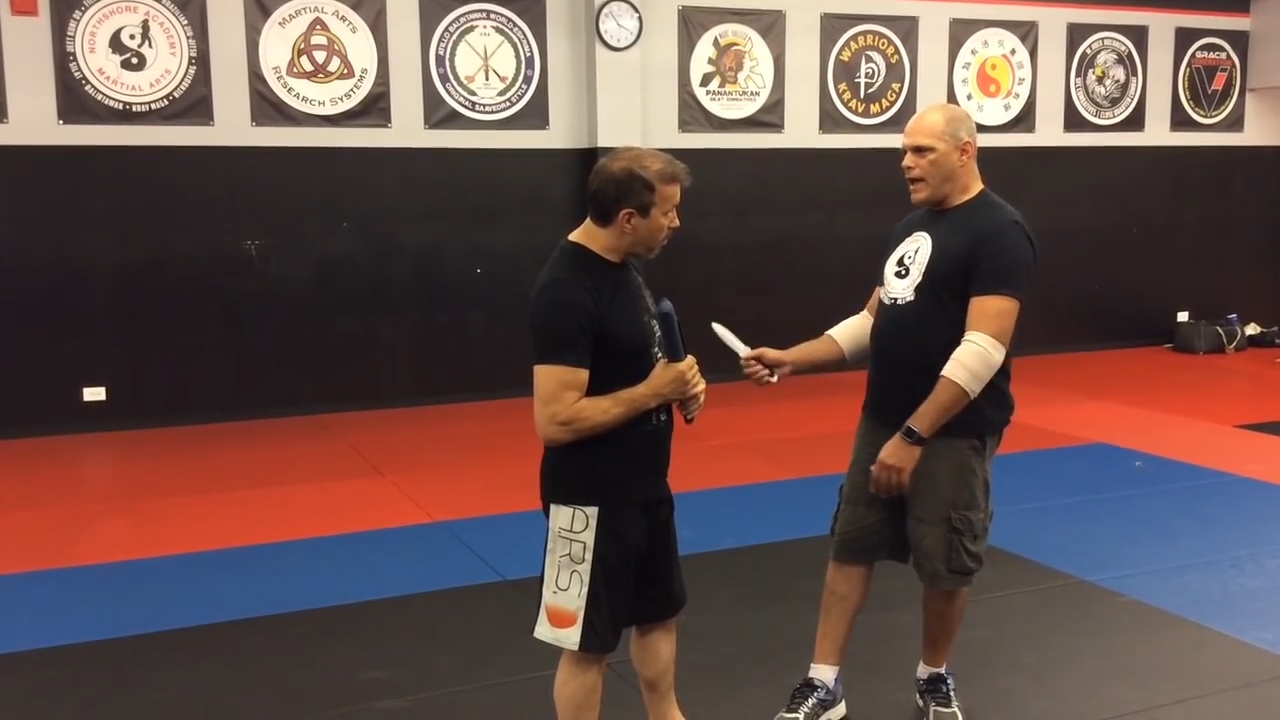knife: (706, 317, 784, 388)
